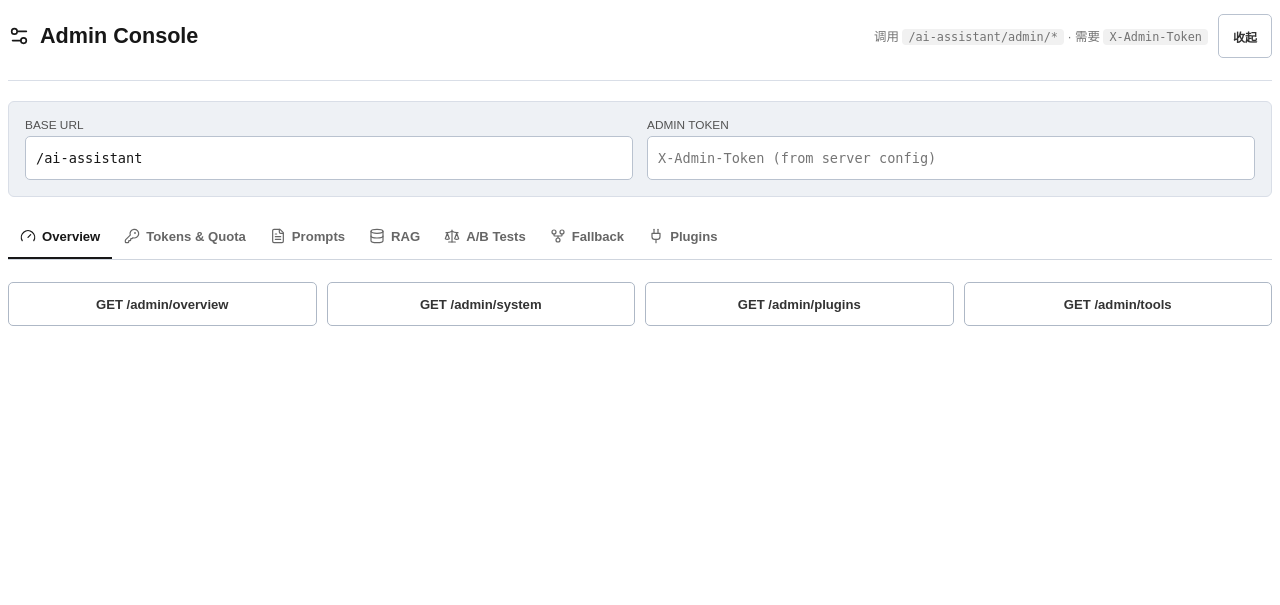
Test case: AdminDemoPanel › switches tab panel when RAG tab is clicked
The image size is (1280, 605).
Click the tab with class "admin-app-tab" showing "RAG".
click(395, 237)  # box [357, 215, 432, 259]
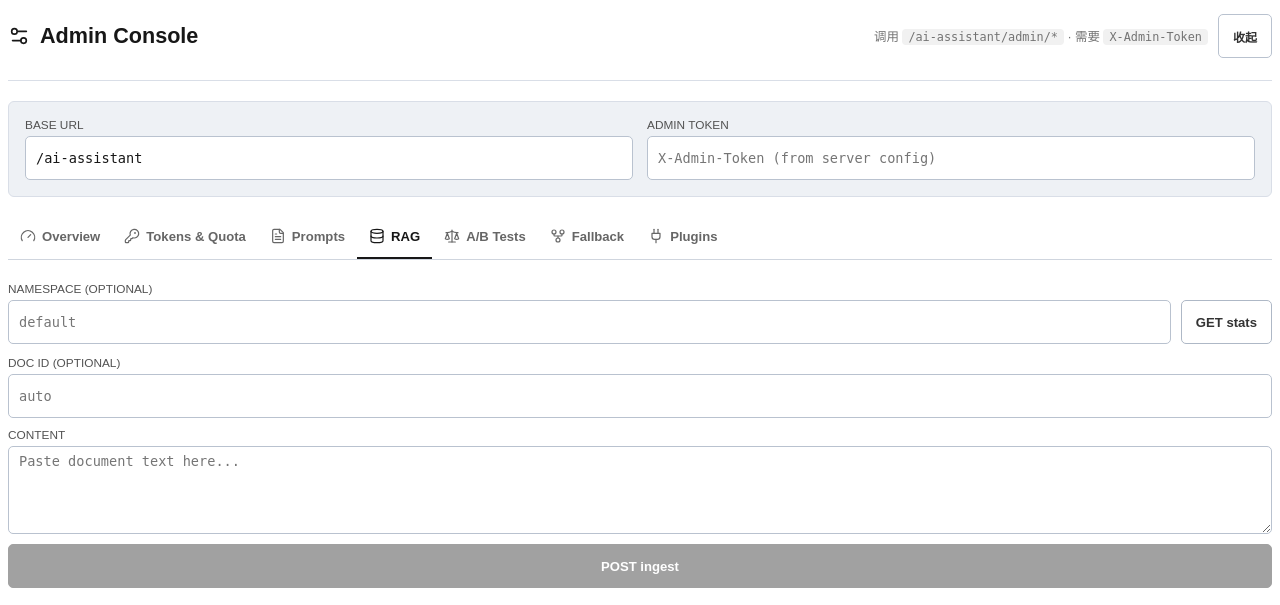
Check: the text "POST ingest" is shown, box [8, 544, 1272, 588]
Check: the text "GET stats" is shown, box [1181, 300, 1272, 344]
